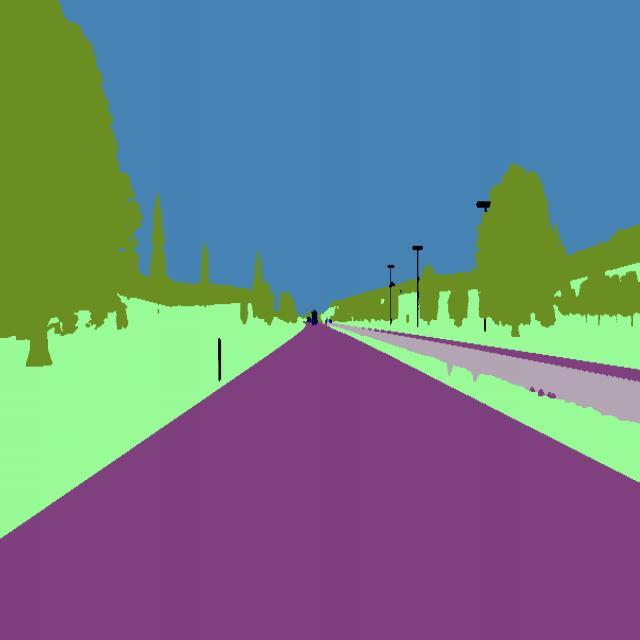safe: (307, 304, 319, 330)
